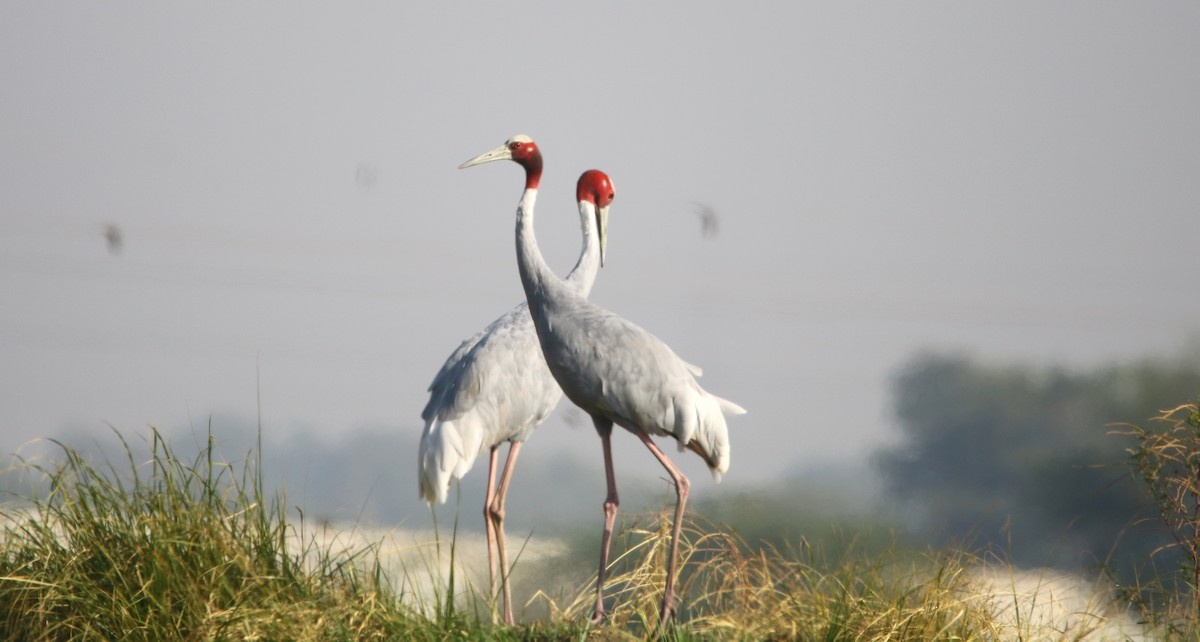crane: (465, 123, 751, 629), (565, 161, 616, 294)
